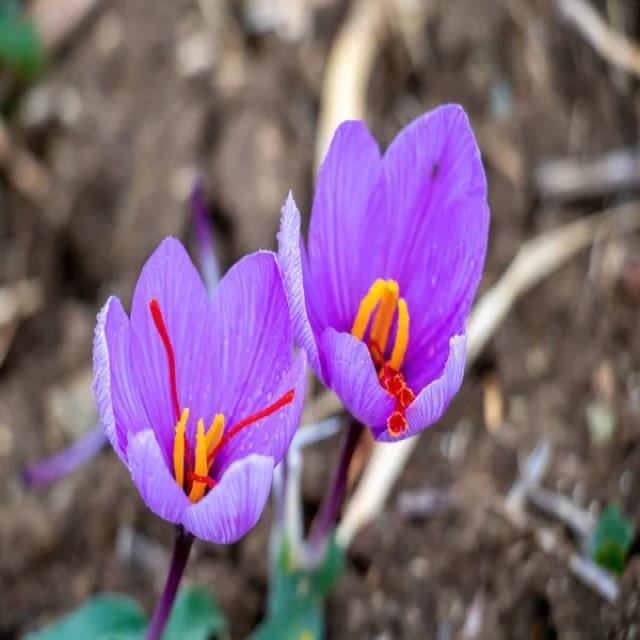Flower: (315, 122, 490, 436), (107, 251, 289, 543)
stigma: (146, 294, 196, 476), (210, 385, 300, 458)
